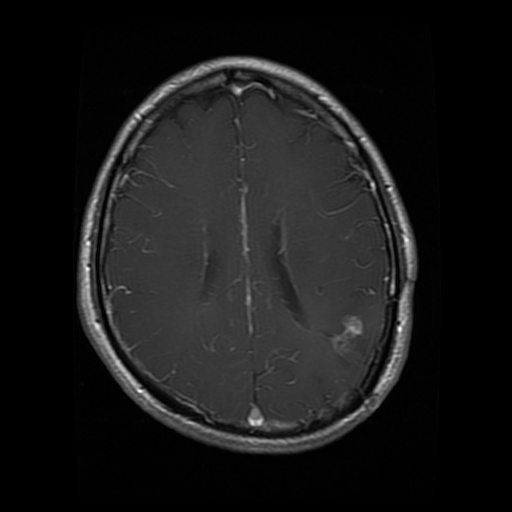glioma: (319, 309, 367, 366)
